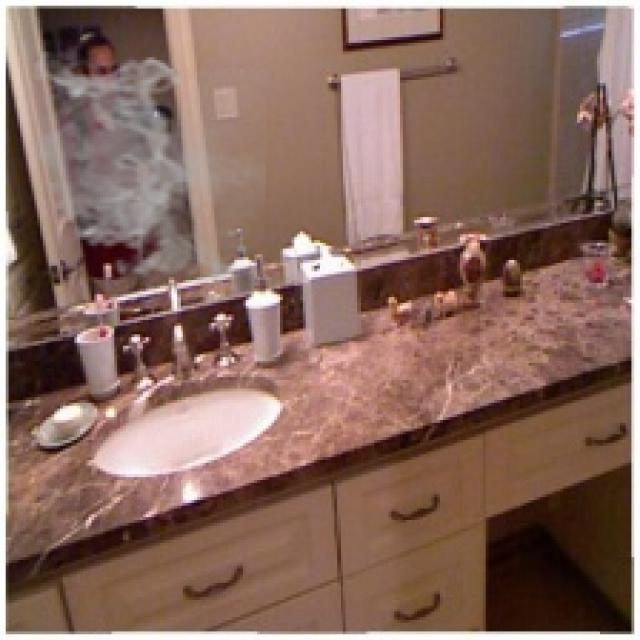smoke: (26, 51, 266, 292)
